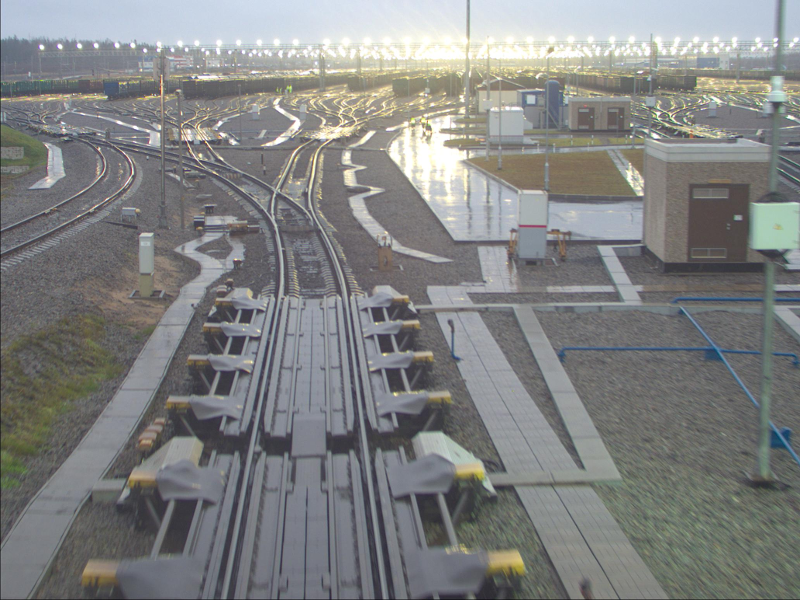right: (265, 206, 324, 227)
